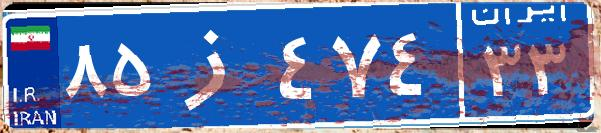3: (475, 38, 525, 113), (525, 38, 570, 115)
4: (385, 28, 445, 110), (273, 28, 330, 110)
5: (110, 28, 158, 105)
7: (330, 28, 385, 110)
8: (57, 26, 110, 107)
ز: (158, 15, 273, 115)
